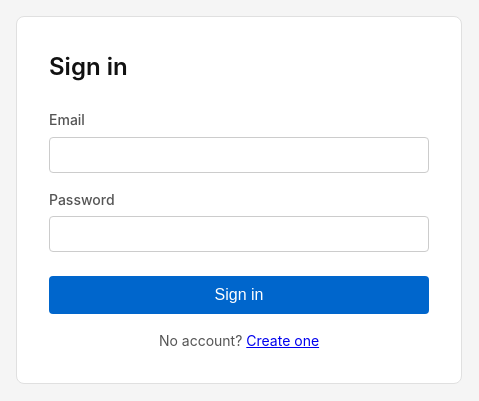
LoginPage › submit button is disabled while form is submitting
The width and height of the screenshot is (479, 401).
Type "a@b.com" into the field labelled "Email".
click(239, 154); type("a@b.com")  # box top-left (49, 136), bottom-right (429, 172)
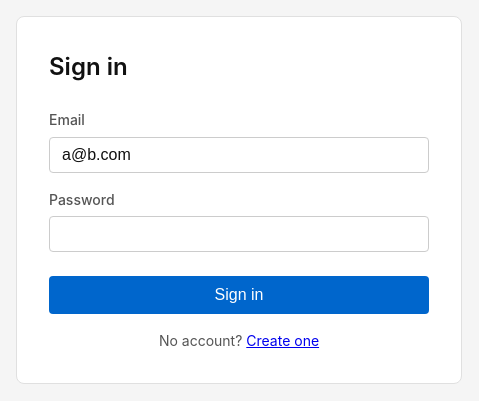
Type "password123" into the password field labelled "Password".
click(239, 234); type("password123")  # box top-left (49, 216), bottom-right (429, 252)
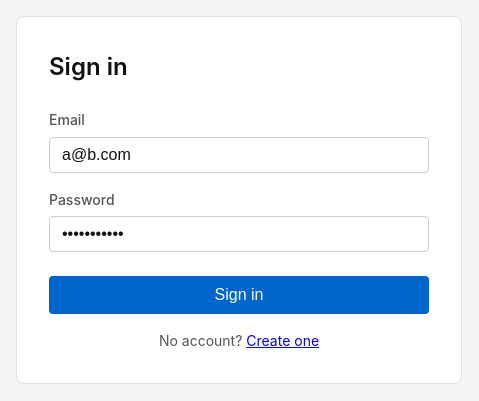
Click the button "Sign in".
click(239, 295)  # box top-left (49, 276), bottom-right (429, 314)
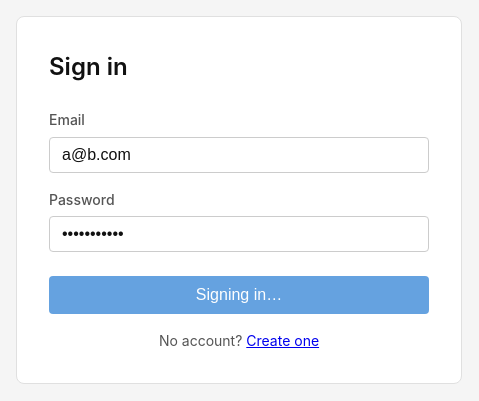
Expected: the button "Signing in…" is disabled, top-left (49, 276), bottom-right (429, 314)
